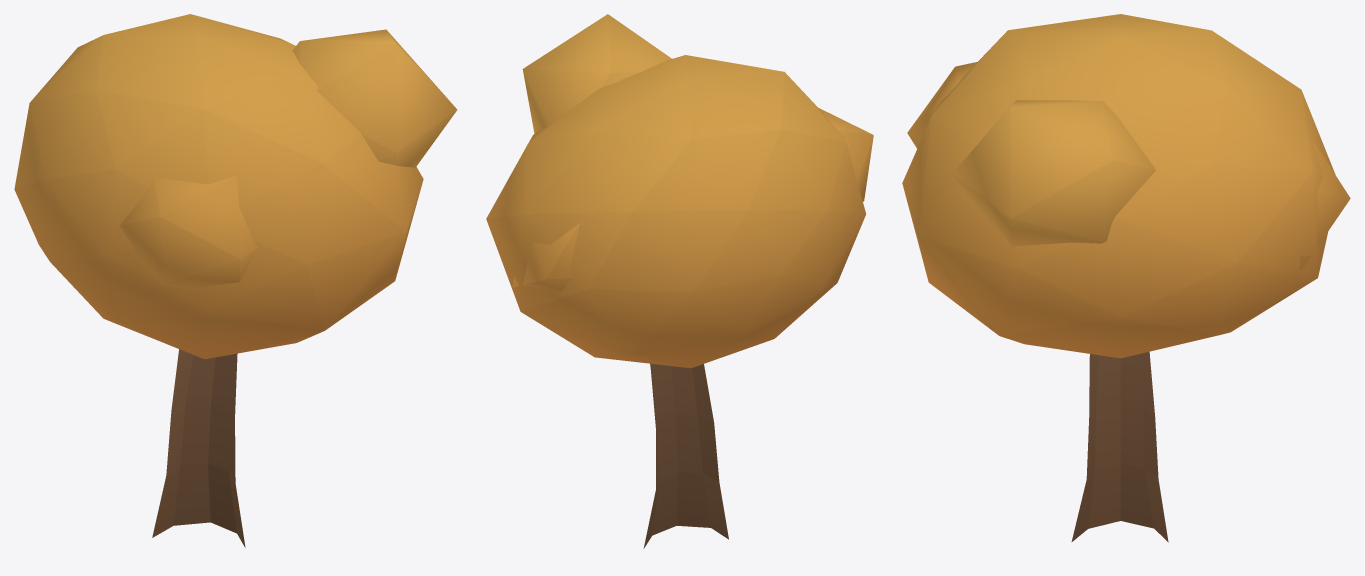
The model's file is tree_5_round.glb.
3 views of the same model, side by side, from view 1: azimuth 30°, elevation 25°; view 2: azimuth 150°, elevation 25°; view 3: azimuth 270°, elevation 25° (orthographic). The views are drawn at different scales.
Parts seen in each view (by area): view 1: tree_round_5; view 2: tree_round_5; view 3: tree_round_5.
Boxes of the visible parts, x1=… form: tree_round_5: x1=14, y1=14, x2=457, y2=547; tree_round_5: x1=486, y1=14, x2=873, y2=548; tree_round_5: x1=902, y1=14, x2=1350, y2=542.
Size of the model in its own units: 2.49 by 3.35 by 2.69.
